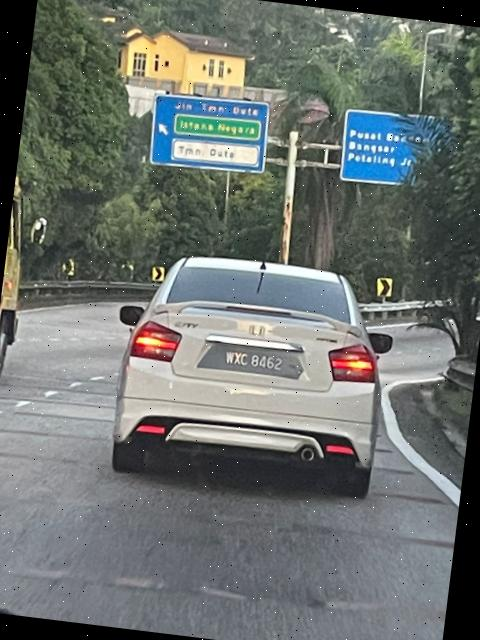License_Plate: (213, 344, 295, 379)
car: (93, 238, 403, 497)
